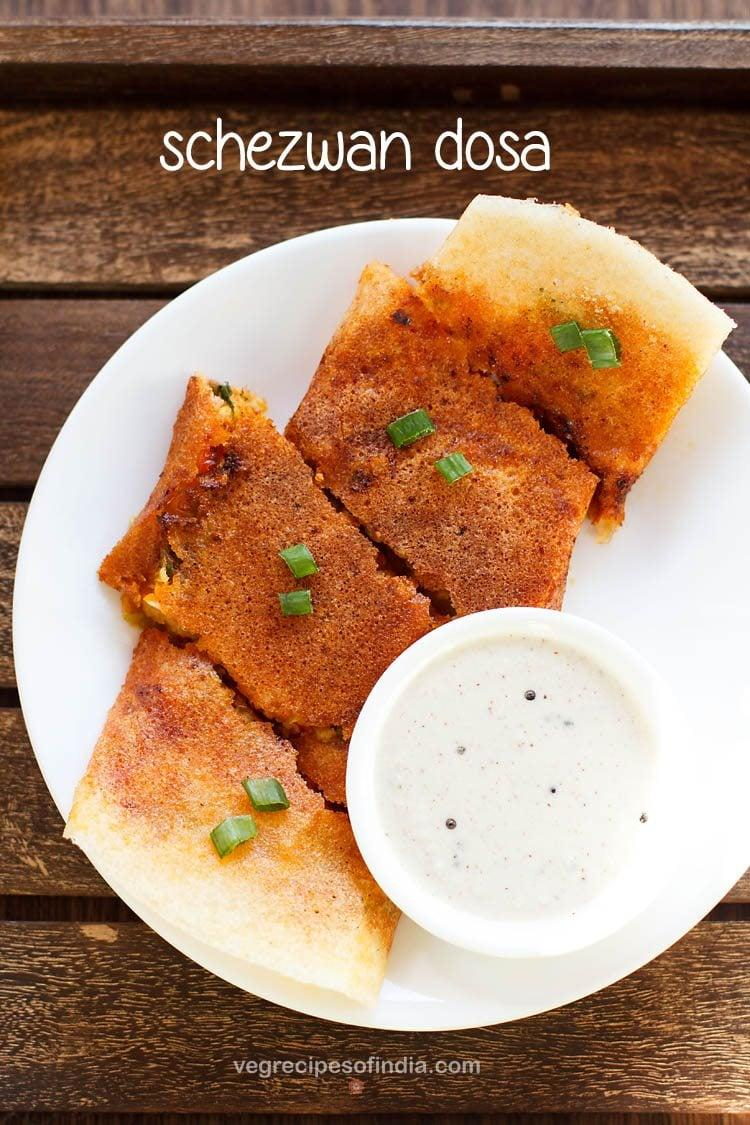coconut chutney: (408, 648, 650, 926)
dosa: (147, 278, 662, 584), (101, 618, 357, 950)
